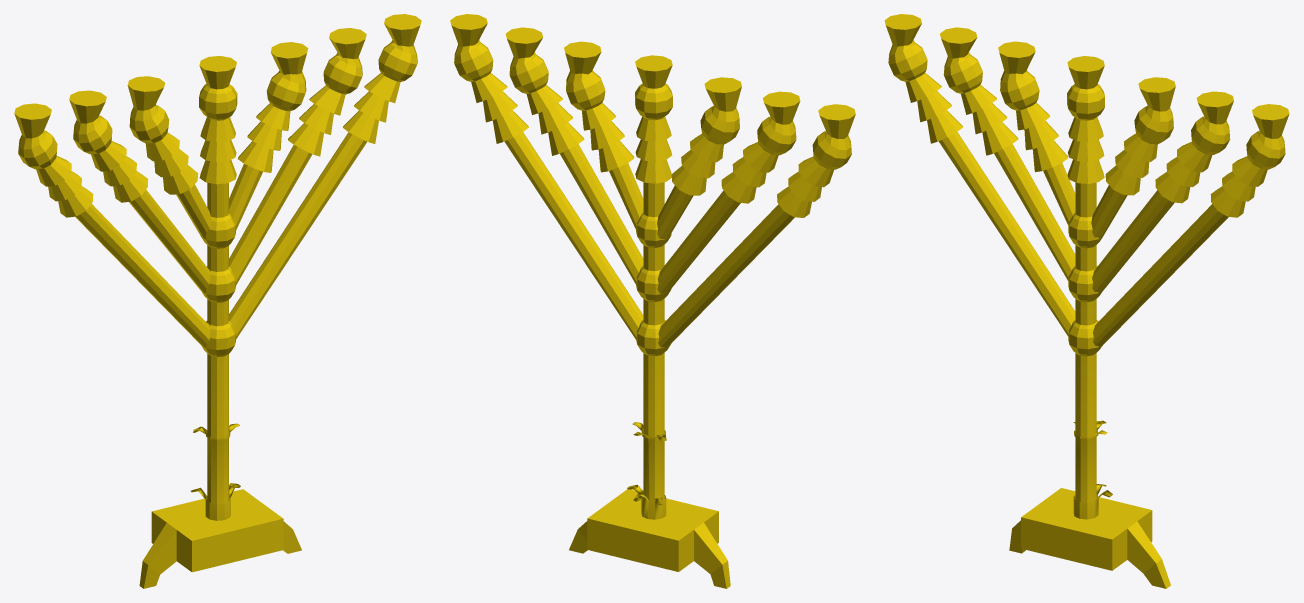
Rendered from CandleStand 1.fbx.
3 views of the same model, side by side, from view 1: azimuth 30°, elevation 25°; view 2: azimuth 150°, elevation 25°; view 3: azimuth 330°, elevation 25° (orthographic).
Visible parts, largest first — view 1: Cylinder.002, Cylinder.001, Cube; view 2: Cylinder.002, Cylinder.001, Cube; view 3: Cylinder.002, Cylinder.001, Cube.
Boxes of the visible parts, x1,y1,x2,y2 form: Cylinder.002: (14, 14, 421, 347); Cylinder.001: (190, 56, 240, 520); Cube: (139, 489, 301, 588); Cylinder.002: (450, 14, 855, 347); Cylinder.001: (627, 55, 672, 519); Cube: (569, 489, 730, 588); Cylinder.002: (884, 14, 1289, 348); Cylinder.001: (1067, 56, 1112, 519); Cube: (1009, 488, 1170, 588).
Size of the model in its own units: 359 by 433 by 62.6.
